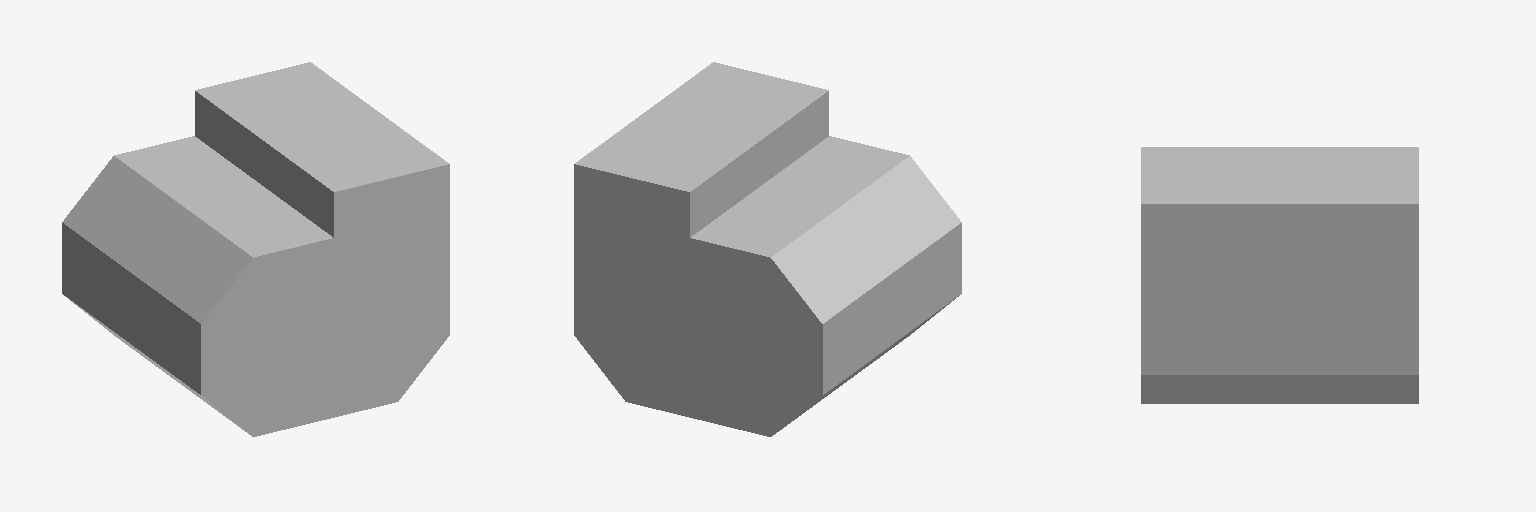
The model's file is Rocket SMG Mag.obj.
3 renders of one model, left to right at view 1: azimuth 30°, elevation 25°; view 2: azimuth 150°, elevation 25°; view 3: azimuth 270°, elevation 25°, orthographic.
Visible parts, largest first — view 1: Solid1; view 2: Solid1; view 3: Solid1.
Part boxes in pixels (bbox=[...]): Solid1: bbox=[62, 62, 449, 436]; Solid1: bbox=[574, 62, 961, 436]; Solid1: bbox=[1141, 147, 1418, 403].
Bounding box in the file's own units: 1.5 × 1.3 × 1.46.